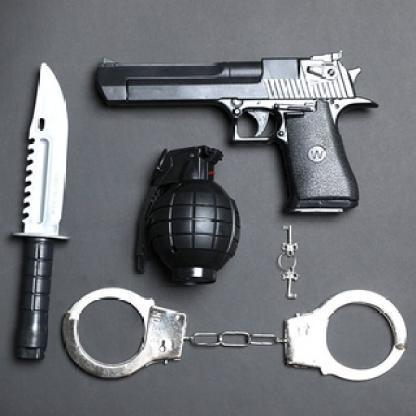Grenade: (135, 143, 243, 294)
Knife: (13, 62, 71, 364)
Pistol: (92, 50, 380, 214)
